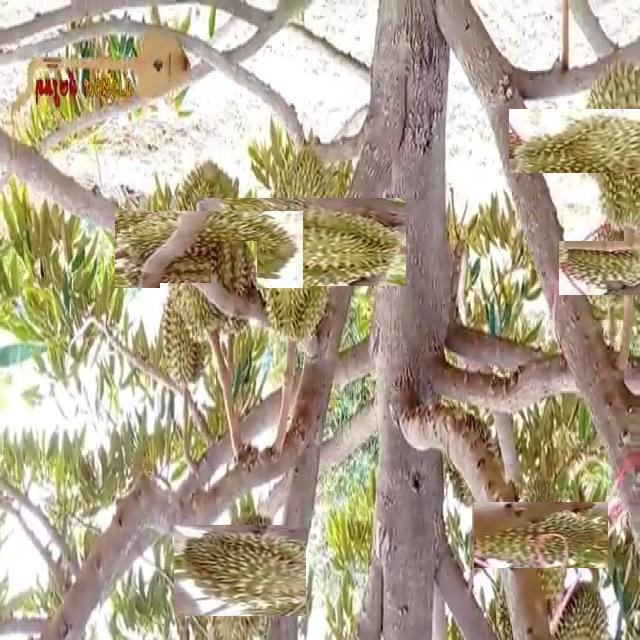durian: (227, 168, 376, 317), (143, 183, 276, 316), (542, 76, 640, 206), (184, 515, 296, 627), (491, 484, 591, 585), (160, 283, 213, 390), (569, 231, 640, 306), (210, 241, 256, 339), (545, 578, 613, 637)
